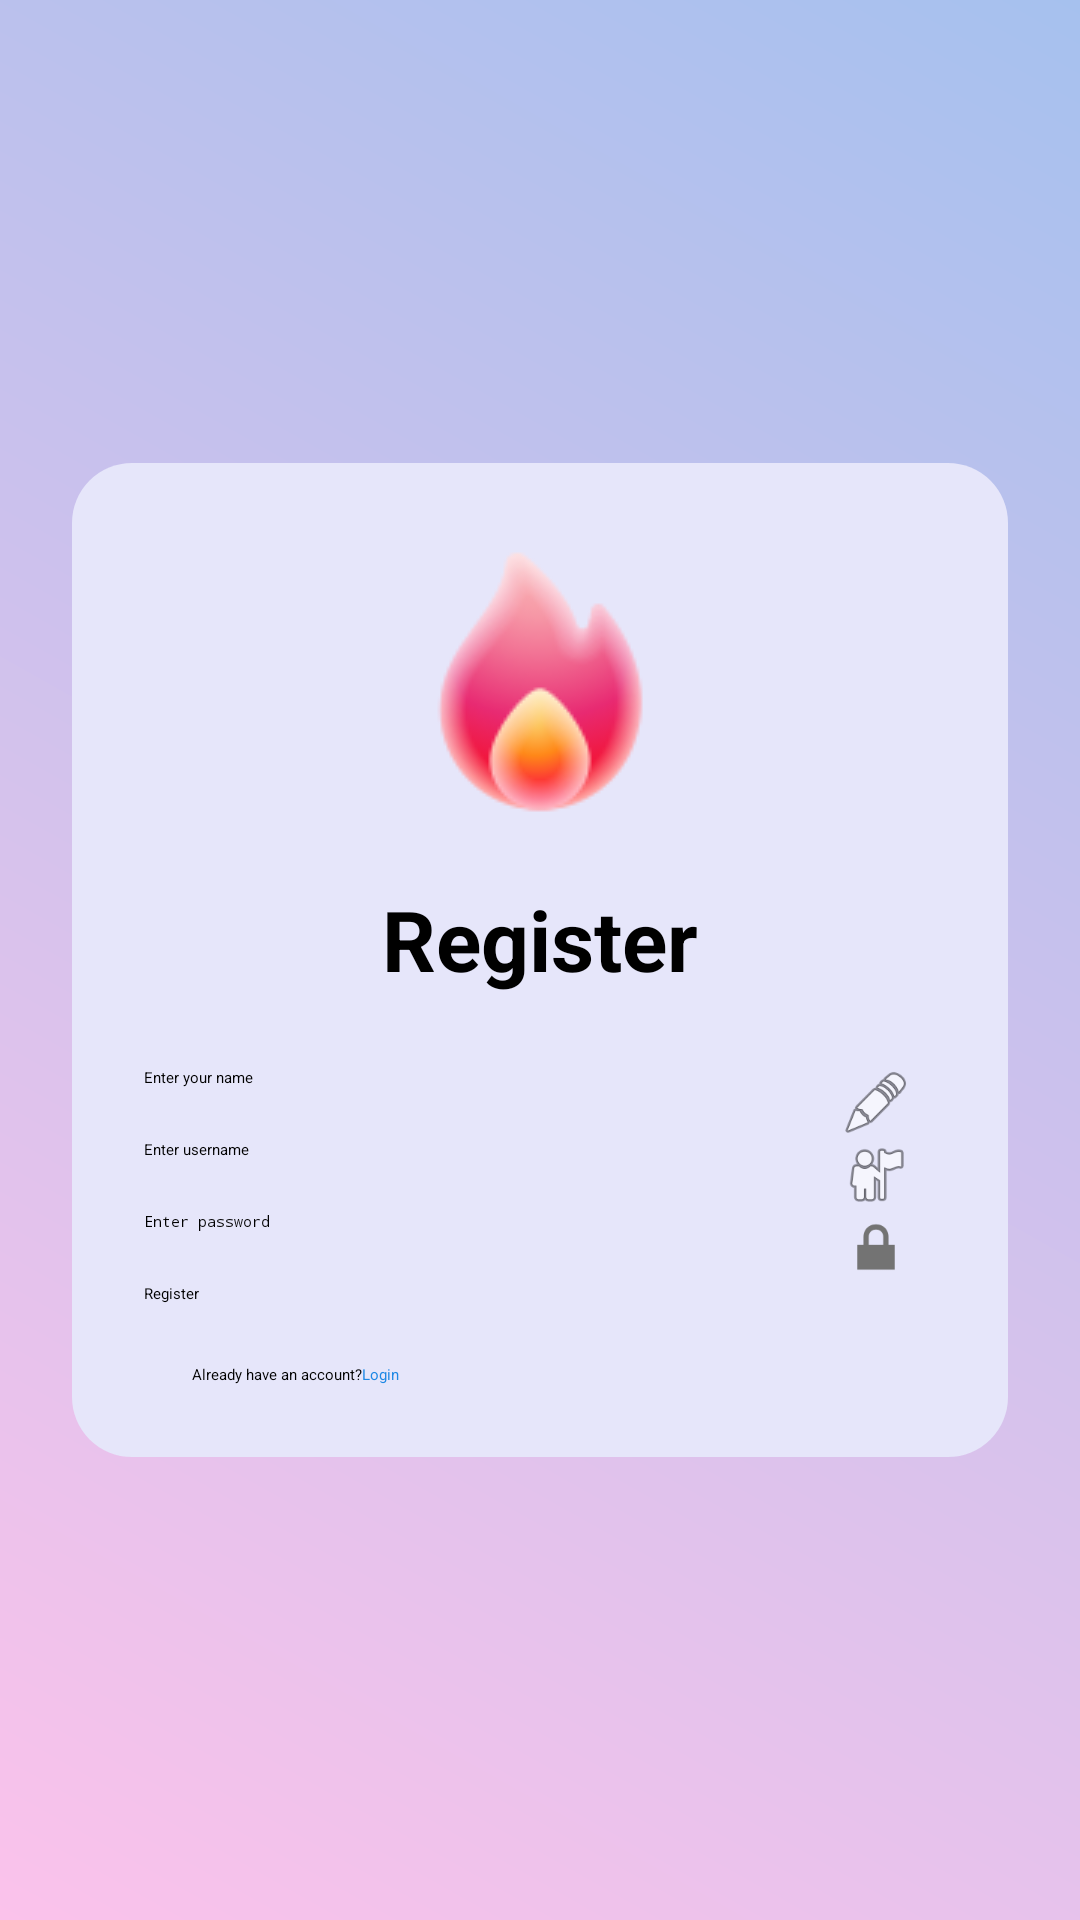

Named icons in this screenshot (1080px x 1920px) and their bounding boxes, detection(x1, y1, x2, y2):
edit: detection(845, 1072, 906, 1133)
lock: detection(857, 1224, 895, 1270)
myplaces: detection(850, 1148, 904, 1202)
